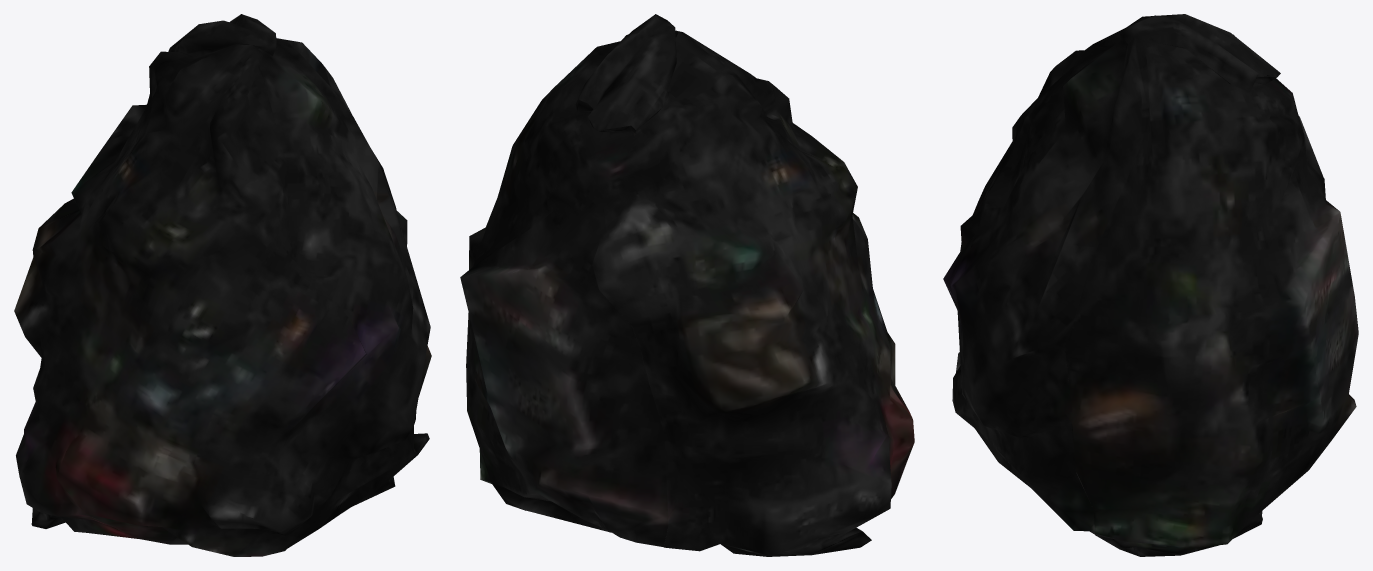
File: trashbag.glb
The picture shows the model from 3 angles, left to right: view 1: azimuth 30°, elevation 25°; view 2: azimuth 150°, elevation 25°; view 3: azimuth 270°, elevation 25°; orthographic projection. The views are drawn at different scales.
Visible parts, largest first — view 1: trashbag; view 2: trashbag; view 3: trashbag.
Part boxes in pixels (x1,y1,x2,y2): trashbag: [14, 14, 431, 556]; trashbag: [460, 14, 914, 556]; trashbag: [943, 14, 1358, 556].
Size of the model in its own units: 0.524 by 0.5747 by 0.4634.
Materials: 1 (1 with a texture image).
